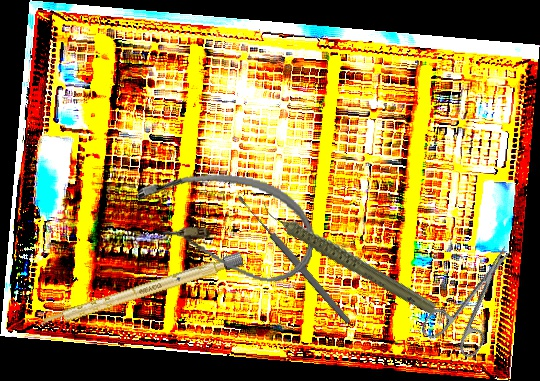Cannula: (127, 162, 322, 289)
Handpiece: (258, 168, 439, 346)
Iris Scissors: (418, 232, 536, 365)
Scalpel Handle: (39, 251, 244, 331)
Surgical Spoon: (235, 193, 353, 326)
